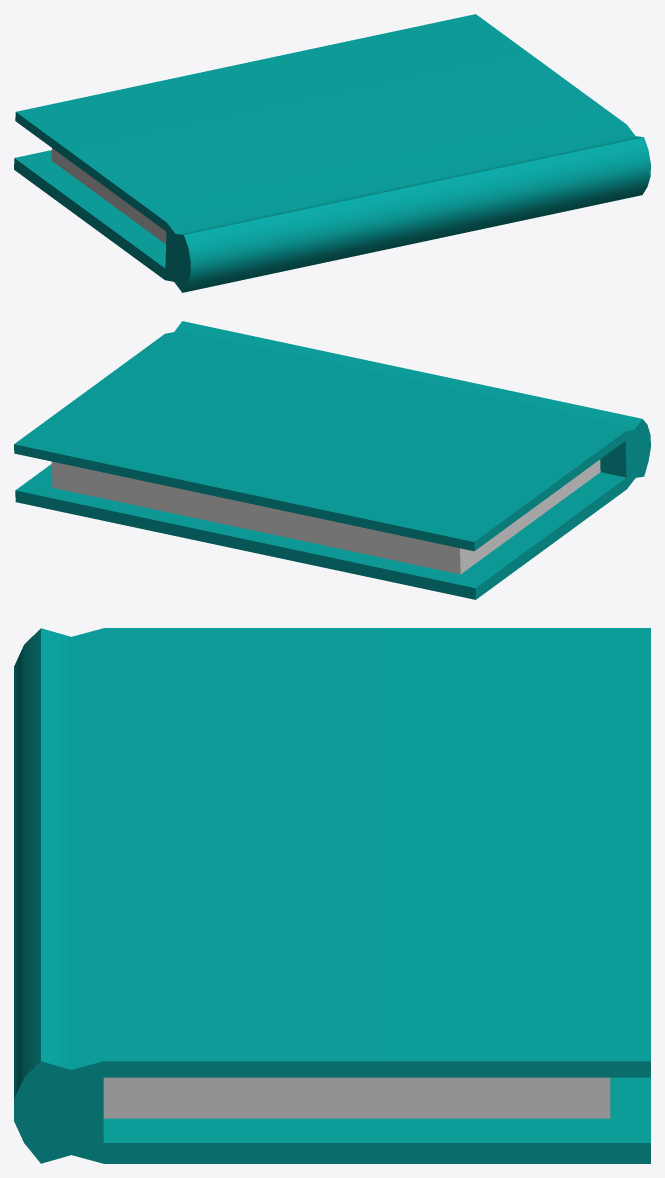
File: BookTest.fbx
3 views of the same model, one above another, from view 1: azimuth 30°, elevation 25°; view 2: azimuth 150°, elevation 25°; view 3: azimuth 270°, elevation 25° (orthographic). The views are drawn at different scales.
Visible parts, largest first — view 1: pCube2; view 2: pCube2; view 3: pCube2.
Part boxes in pixels (x1,y1,x2,y2): pCube2: (14, 14, 650, 292); pCube2: (14, 321, 650, 599); pCube2: (14, 628, 650, 1163).
Size of the model in its own units: 7.4 by 1.1 by 4.88.
